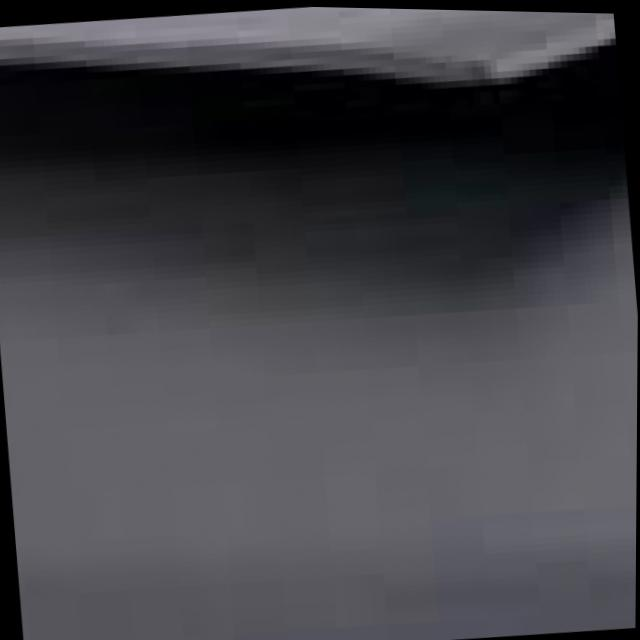metal-plates: (1, 6, 639, 640)
